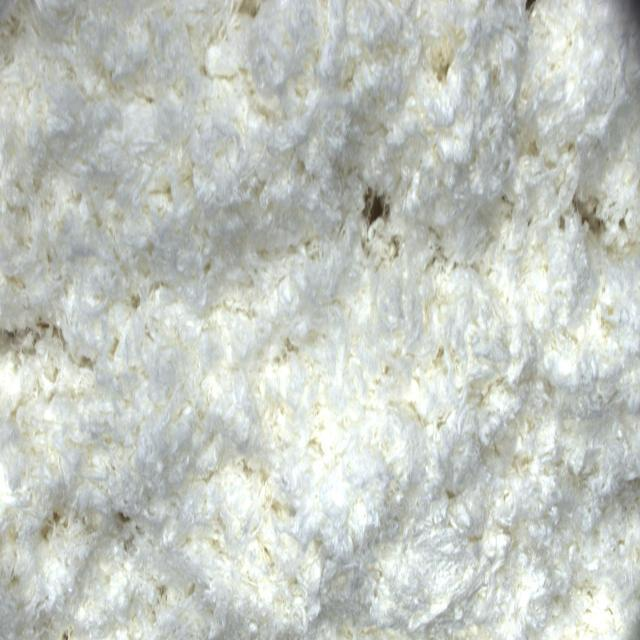dust: (367, 182, 387, 237), (521, 0, 538, 22)
